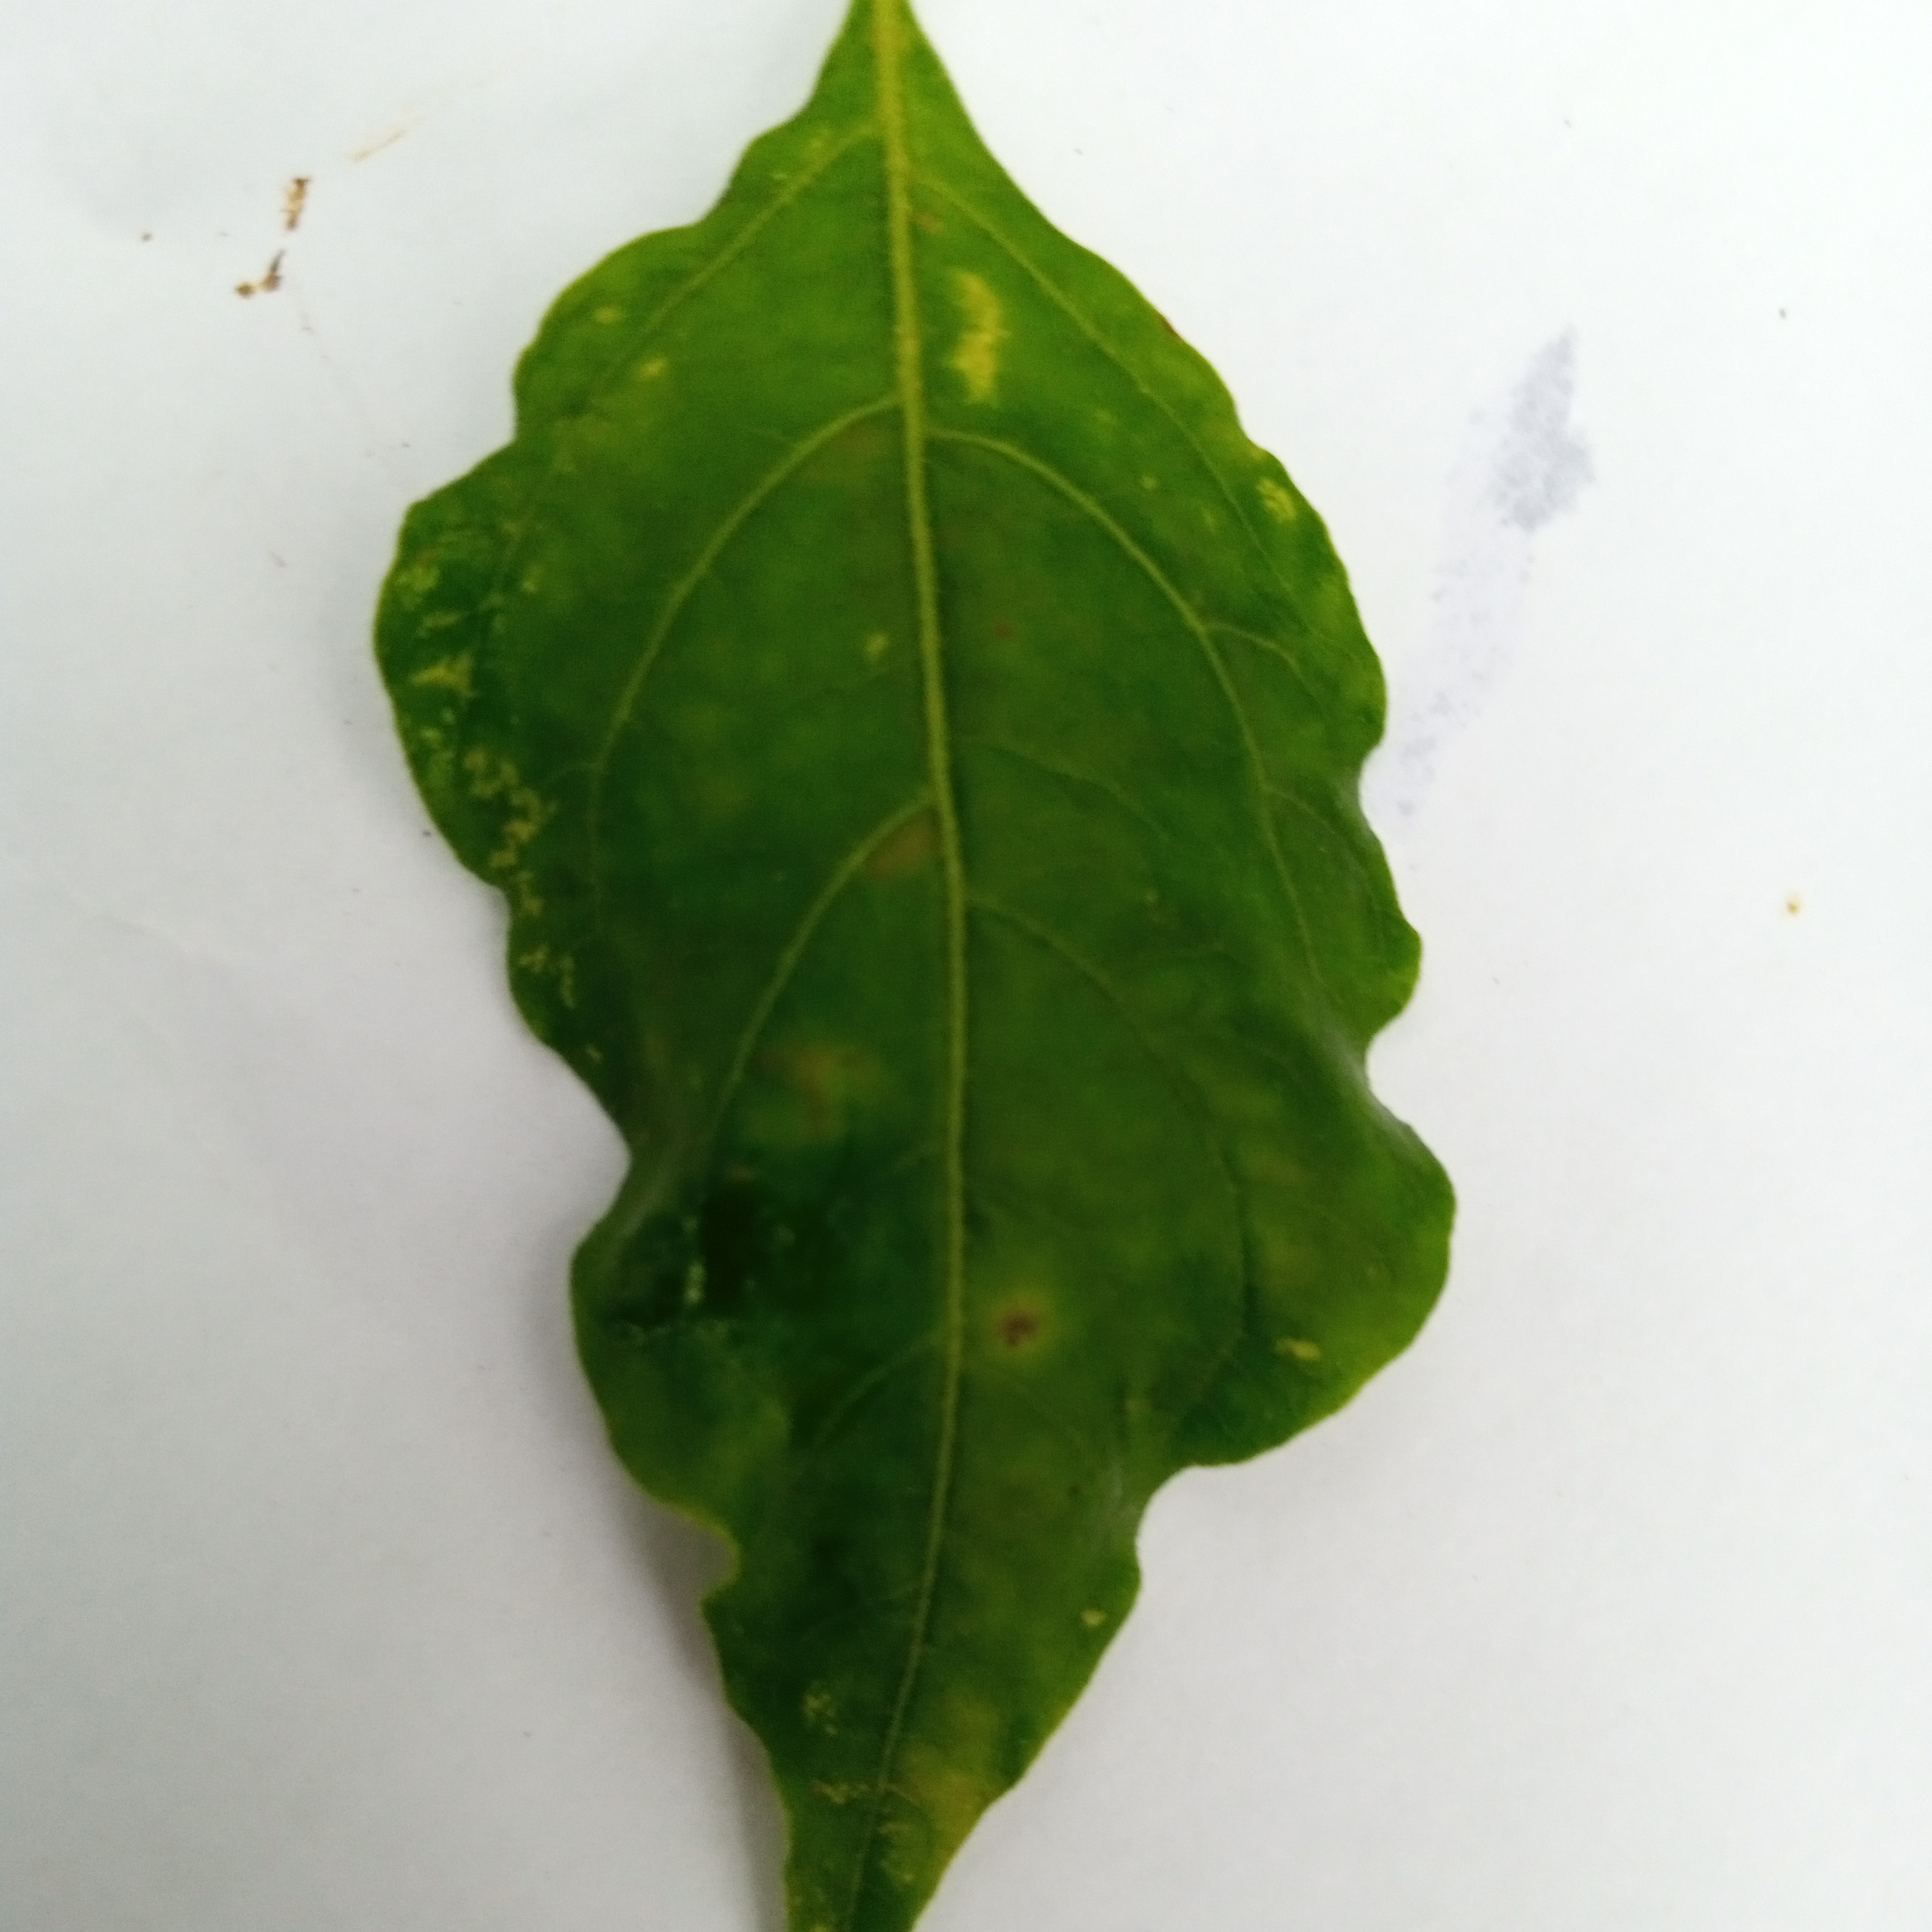Leaf: (168, 101, 1539, 1932)
